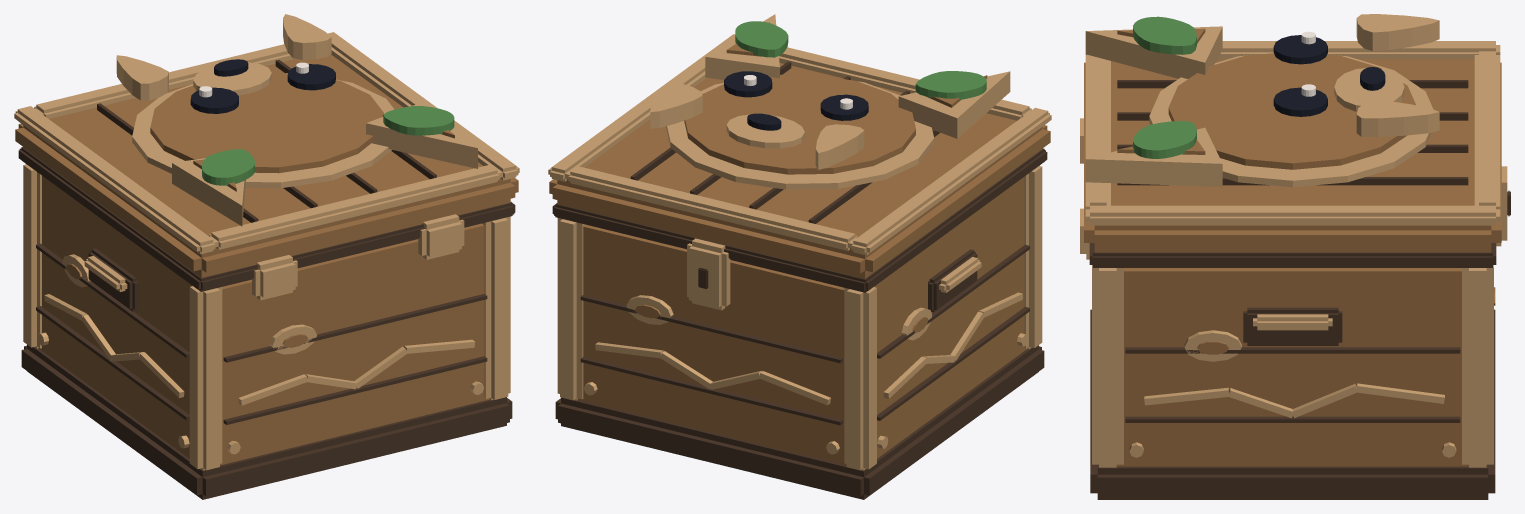
File: crate_javali_madeira.fbx
3 views of the same model, side by side, from view 1: azimuth 30°, elevation 25°; view 2: azimuth 150°, elevation 25°; view 3: azimuth 270°, elevation 25° (orthographic). The views are drawn at different scales.
Parts seen in each view (by area): view 1: crate_javali_madeira_caixa; view 2: crate_javali_madeira_caixa; view 3: crate_javali_madeira_caixa.
Part boxes in pixels (box(x1,y1,x2,y2)): crate_javali_madeira_caixa: box(14, 14, 519, 499); crate_javali_madeira_caixa: box(548, 14, 1051, 499); crate_javali_madeira_caixa: box(1080, 14, 1510, 499).
Size of the model in its own units: 2.68 by 2.45 by 2.7.
Materials: 1 (1 with a texture image).
